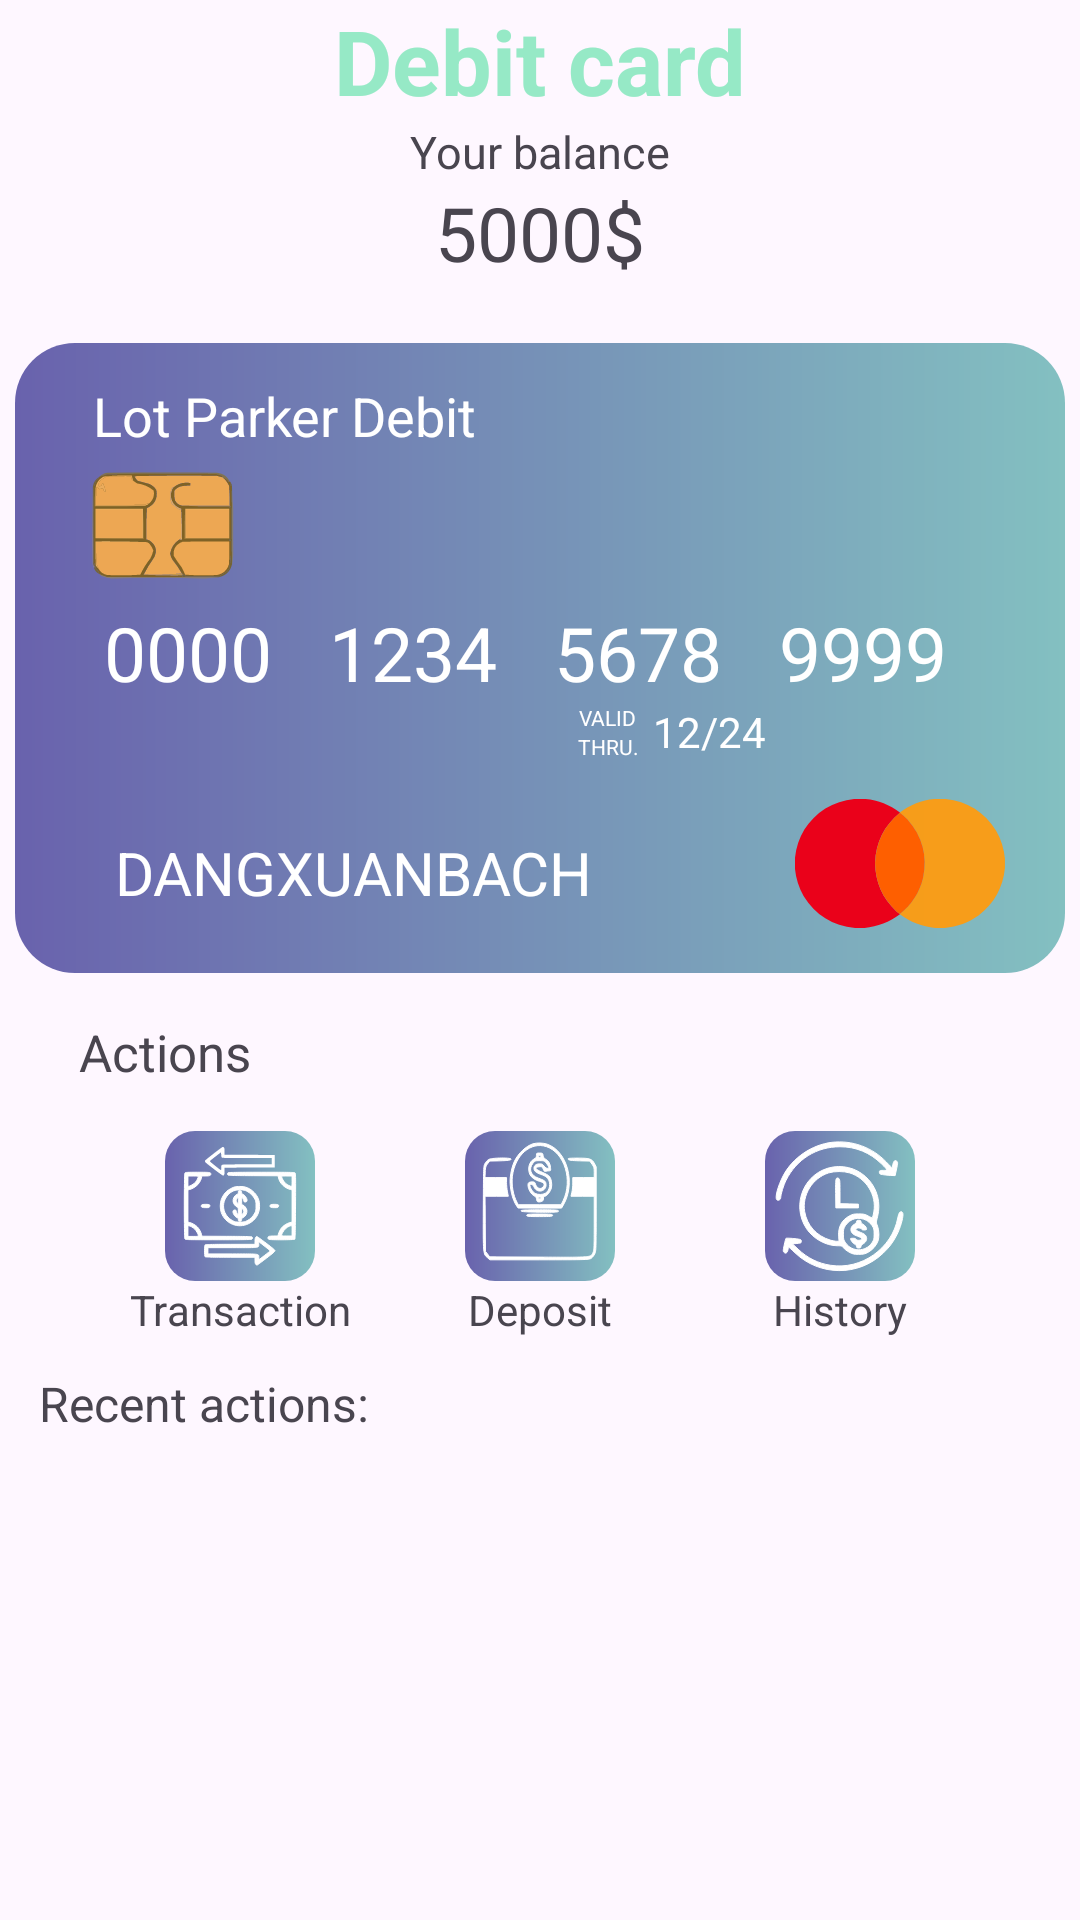

Named icons in this screenshot (1080px×1920px) and their bounding boxes, [x1, y1, x2, y2]:
chip: [92, 472, 233, 579]
